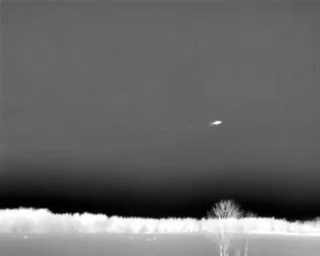BIRD: (208, 117, 225, 130)
